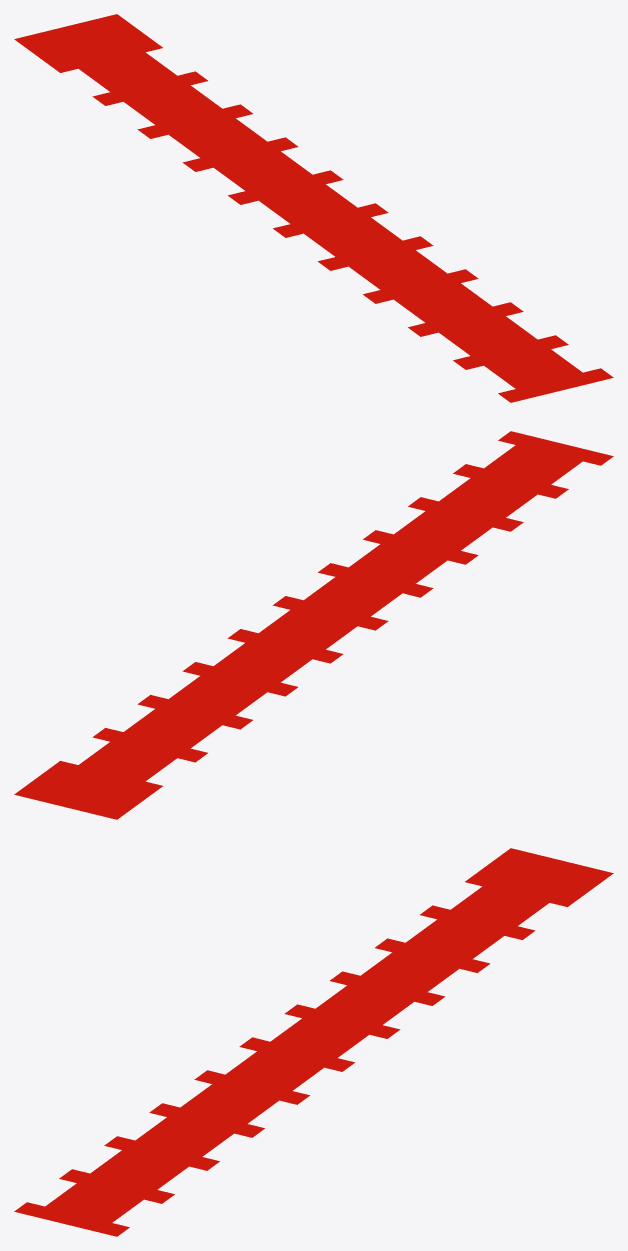
Rendered from tonnelNavMesh.glb.
3 views of the same model, one above another, from view 1: azimuth 30°, elevation 25°; view 2: azimuth 150°, elevation 25°; view 3: azimuth 330°, elevation 25° (orthographic).
Parts seen in each view (by area): view 1: Plane.001; view 2: Plane.001; view 3: Plane.001.
Boxes of the visible parts, x1,y1,x2,y2 form: Plane.001: (14,14,613,402); Plane.001: (14,431,613,819); Plane.001: (14,848,613,1236).
Bounding box in the file's own units: 14.31 × 0.00291 × 119.
